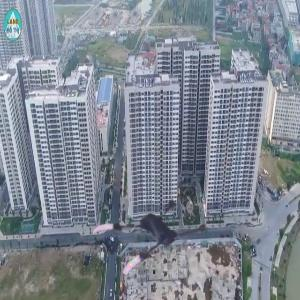drone: (94, 182, 209, 297)
